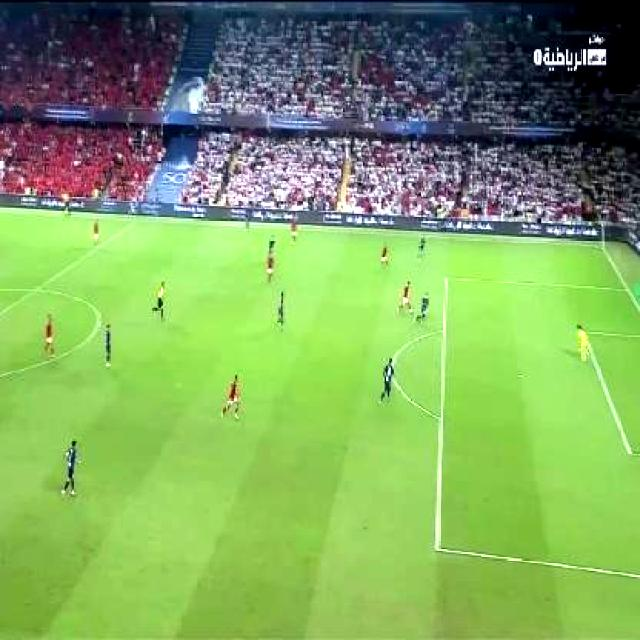bigarea_bottom_inner: (432, 538, 442, 552)
bigarea_top_inner: (442, 272, 449, 283)
bigarea_top_outter: (618, 281, 634, 297)
bottom_arc_area_intersection: (435, 411, 443, 423)
corner: (594, 242, 611, 256)
halfcircle_top: (31, 284, 38, 294)
midline_top_intersection: (128, 214, 149, 231)
smallarea_bottom_inner: (624, 442, 636, 458)
top_arc_area_intersection: (439, 324, 446, 336)
